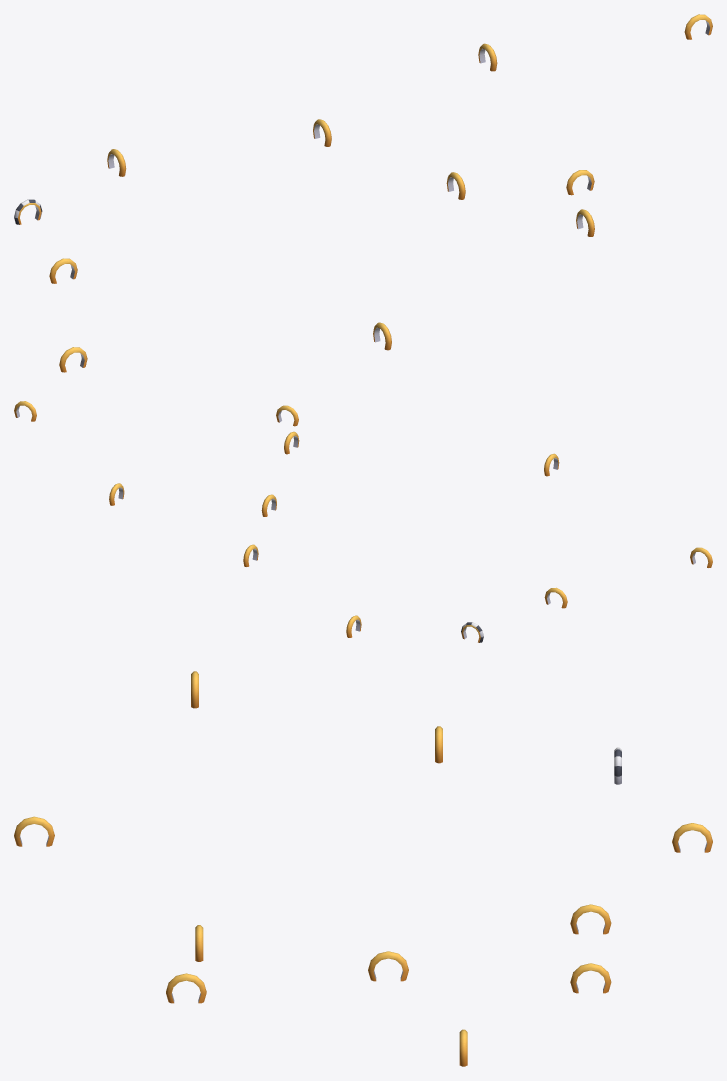
Rendered from gates.glb.
3 views of the same model, one above another, from view 1: azimuth 30°, elevation 25°; view 2: azimuth 150°, elevation 25°; view 3: azimuth 270°, elevation 25° (orthographic). The views are drawn at different scales.
Bounding box in the file's own units: 89.24 × 11.42 × 55.27.
6 materials, 6 textured.
